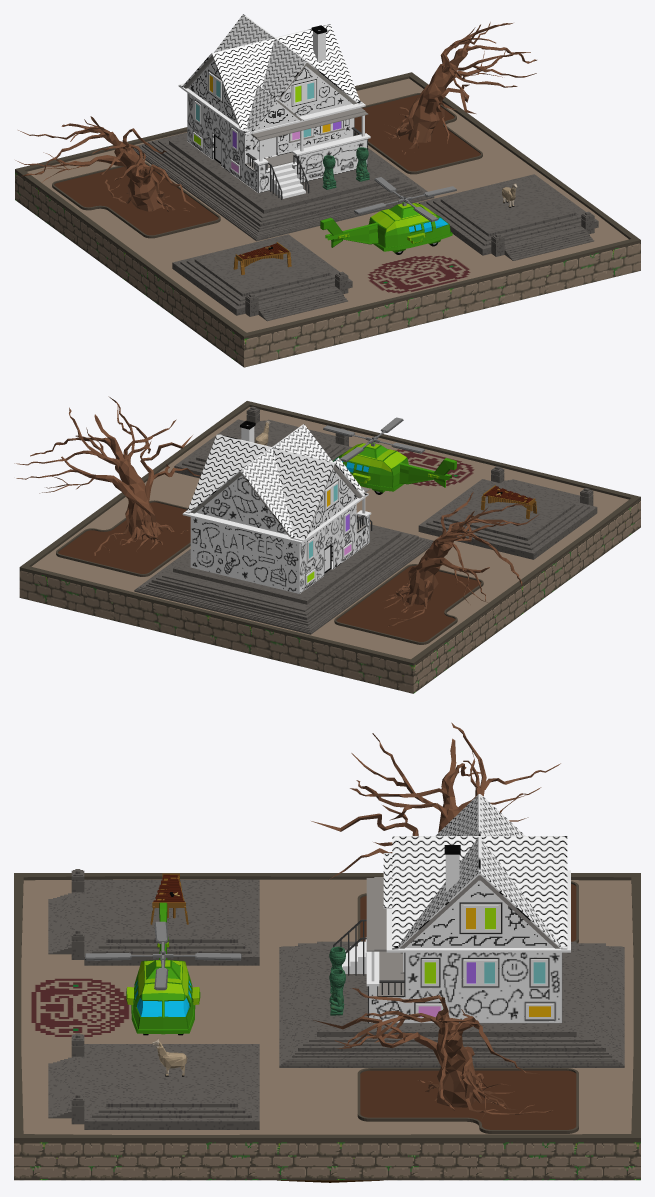
3 renders of one model, top to bottom at view 1: azimuth 30°, elevation 25°; view 2: azimuth 150°, elevation 25°; view 3: azimuth 270°, elevation 25°, orthographic. The views are drawn at different scales.
Parts seen in each view (by area): view 1: Cube.011, Cube.879, VEHICLES_HELICOPTER, OBJRANDOM_MARIMBA; view 2: Cube.011, Cube.879, VEHICLES_HELICOPTER, OBJRANDOM_MARIMBA; view 3: Cube.011, Cube.879, VEHICLES_HELICOPTER, OBJRANDOM_MARIMBA.
Part boxes in pixels (left/top/right/bottom): Cube.011: left=15, top=22, right=640, bottom=367; Cube.879: left=178, top=14, right=370, bottom=199; VEHICLES_HELICOPTER: left=320, top=177, right=456, bottom=254; OBJRANDOM_MARIMBA: left=233, top=242, right=291, bottom=274; Cube.011: left=14, top=396, right=640, bottom=693; Cube.879: left=182, top=420, right=372, bottom=593; VEHICLES_HELICOPTER: left=323, top=417, right=456, bottom=494; OBJRANDOM_MARIMBA: left=481, top=485, right=536, bottom=519; Cube.011: left=14, top=722, right=640, bottom=1180; Cube.879: left=333, top=794, right=570, bottom=1023; VEHICLES_HELICOPTER: left=85, top=902, right=241, bottom=1035; OBJRANDOM_MARIMBA: left=150, top=873, right=188, bottom=924.
Bounding box in the file's own units: 5099 × 1726 × 4000.
Materials: 41 (12 with a texture image).
